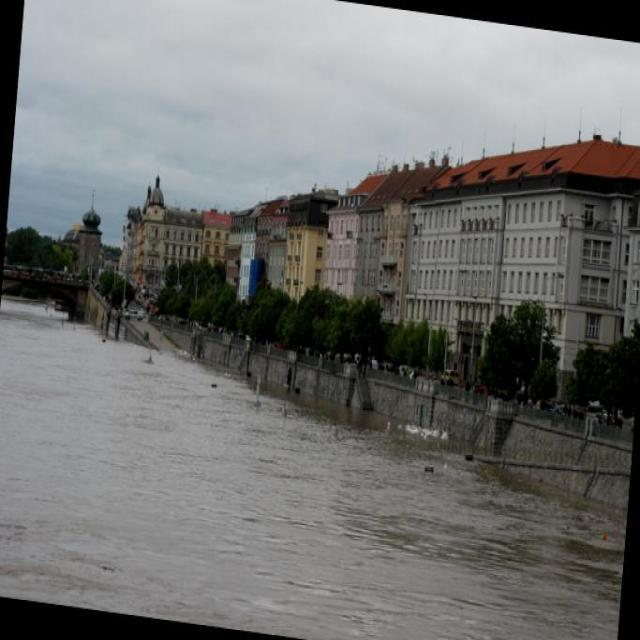flood: (0, 278, 639, 639)
